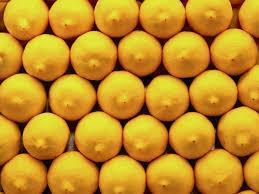lemon: (22, 33, 70, 82), (75, 112, 122, 162), (162, 30, 210, 78), (210, 28, 258, 76), (168, 111, 216, 159), (22, 112, 70, 160), (71, 31, 118, 80), (0, 74, 47, 122), (98, 70, 144, 119), (49, 74, 96, 120), (190, 70, 237, 116), (195, 148, 242, 194), (48, 151, 98, 194), (123, 115, 168, 162), (217, 107, 259, 156), (118, 30, 162, 76), (146, 74, 189, 120), (147, 153, 194, 194), (3, 0, 49, 41), (0, 153, 46, 194), (139, 0, 186, 39), (50, 0, 96, 39), (99, 155, 145, 194), (186, 0, 233, 37), (94, 0, 140, 37), (0, 32, 23, 80), (237, 64, 259, 112), (0, 115, 20, 166), (238, 0, 259, 38), (243, 150, 259, 192)
